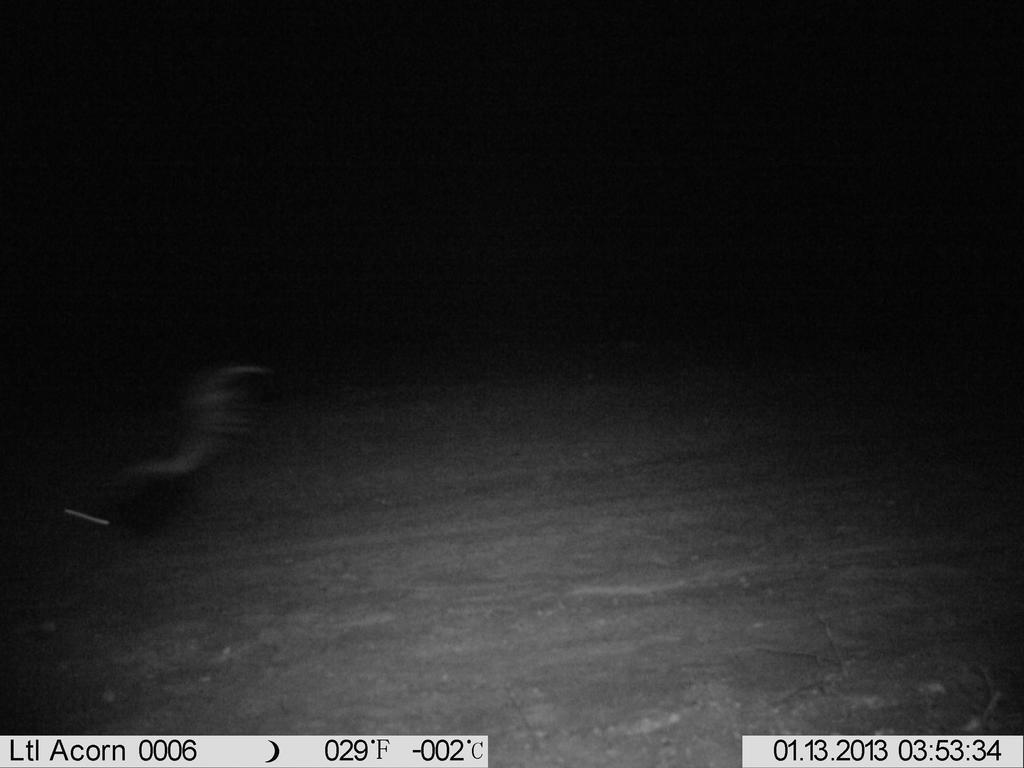skunk: (45, 353, 274, 549)
